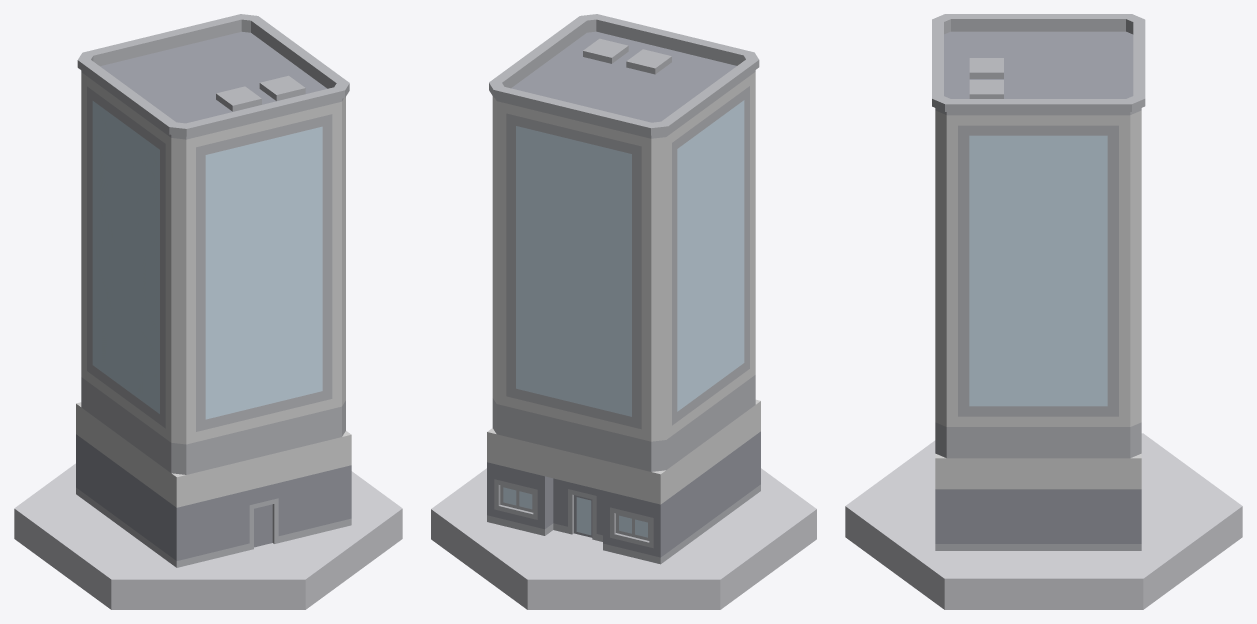
File: skyscraper_5_low.fbx
The picture shows the model from 3 angles, left to right: view 1: azimuth 30°, elevation 25°; view 2: azimuth 150°, elevation 25°; view 3: azimuth 270°, elevation 25°; orthographic projection. The views are drawn at different scales.
Visible parts, largest first — view 1: skyscraperA.001, pavement_low.007; view 2: skyscraperA.001, pavement_low.007; view 3: skyscraperA.001, pavement_low.007.
Part boxes in pixels (bbox=[...]): skyscraperA.001: bbox=[76, 14, 351, 567]; pavement_low.007: bbox=[14, 463, 402, 609]; skyscraperA.001: bbox=[487, 14, 760, 564]; pavement_low.007: bbox=[431, 468, 816, 609]; skyscraperA.001: bbox=[932, 14, 1145, 550]; pavement_low.007: bbox=[845, 433, 1242, 609].
Bounding box in the file's own units: 100 × 154 × 115.
